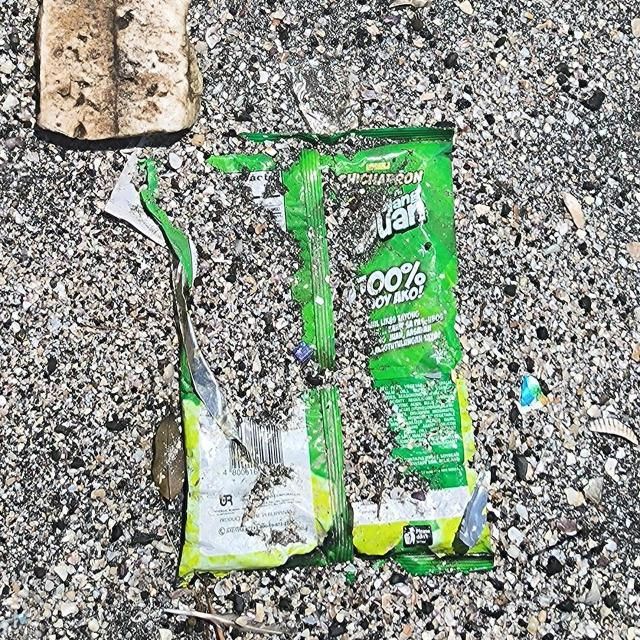plastic_waste: (136, 118, 499, 592)
